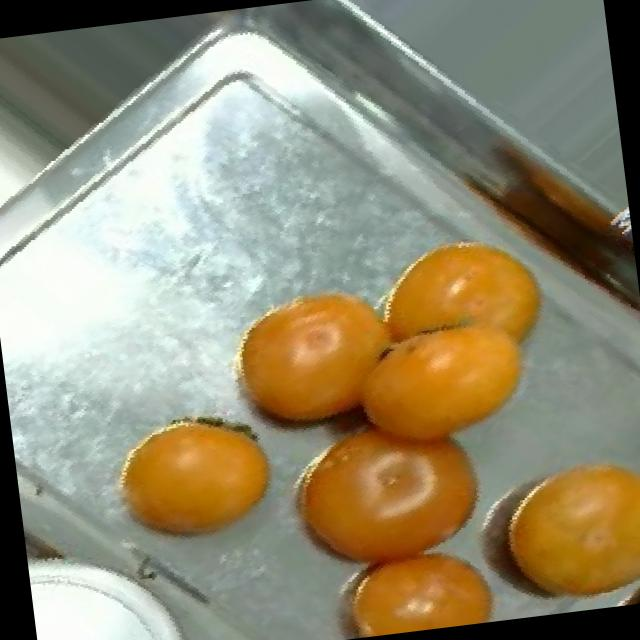Fruit: (195, 258, 420, 470), (85, 377, 302, 572), (253, 403, 437, 600), (464, 430, 640, 622)
